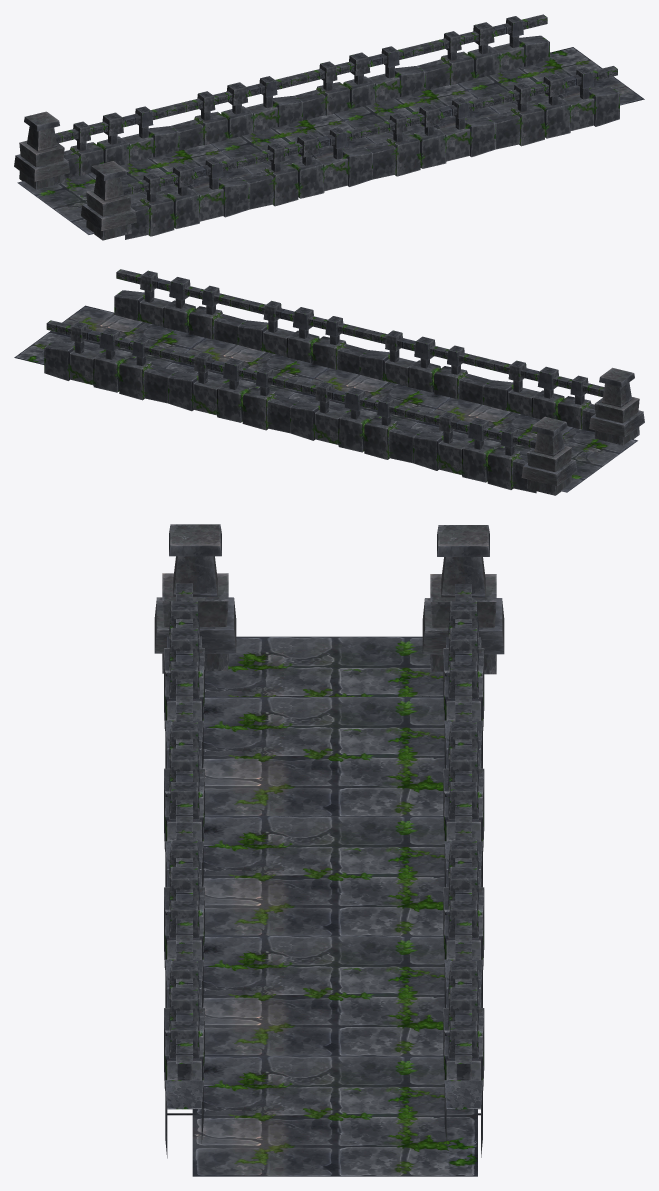
Rendered from LargerBridge.gltf.
3 views of the same model, one above another, from view 1: azimuth 30°, elevation 25°; view 2: azimuth 150°, elevation 25°; view 3: azimuth 270°, elevation 25° (orthographic). The views are drawn at different scales.
Visible parts, largest first — view 1: P_MOD_Railing_01_straight (8), P_MOD_Railing_01_straight (12), P_MOD_Railing_01_straight (10), P_MOD_Railing_01_straight (13), P_MOD_Railing_01_straight (9), P_MOD_Railing_01_straight (14), P_MOD_Railing_01_straight (11), P_MOD_Railing_01_straight (15), P_MOD_Floor_01_O_straight_med (4), P_MOD_Floor_01_O_straight_med (6), P_MOD_Floor_01_O_straight_med (5), P_MOD_Railing_01_column (1) (+3 smaller); view 2: P_MOD_Railing_01_straight (9), P_MOD_Railing_01_straight (14), P_MOD_Railing_01_straight (11), P_MOD_Railing_01_straight (15), P_MOD_Railing_01_straight (8), P_MOD_Railing_01_straight (12), P_MOD_Railing_01_straight (10), P_MOD_Railing_01_straight (13), P_MOD_Floor_01_O_straight_med (4), P_MOD_Floor_01_O_straight_med (5), P_MOD_Floor_01_O_straight_med (6), P_MOD_Railing_01_column (+3 smaller); view 3: P_MOD_Floor_01_O_straight_med (4), P_MOD_Floor_01_O_straight_med (5), P_MOD_Floor_01_O_straight_med (6), P_MOD_Floor_01_O_straight_med (7), P_MOD_Floor_01_O_straight_small, P_MOD_Railing_01_column, P_MOD_Railing_01_column (1), P_MOD_Railing_01_straight (8), P_MOD_Railing_01_straight (9), P_MOD_Railing_01_straight (11), P_MOD_Railing_01_straight (15), P_MOD_Railing_01_straight (14) (+3 smaller).
Part boxes in pixels (x1,y1,x2,y2): P_MOD_Railing_01_straight (8): (487, 66, 619, 149); P_MOD_Railing_01_straight (12): (241, 126, 372, 209); P_MOD_Railing_01_straight (10): (365, 96, 495, 179); P_MOD_Railing_01_straight (13): (122, 156, 249, 239); P_MOD_Railing_01_straight (9): (417, 14, 549, 90); P_MOD_Railing_01_straight (14): (171, 75, 302, 150); P_MOD_Railing_01_straight (11): (295, 45, 425, 120); P_MOD_Railing_01_straight (15): (55, 105, 179, 178); P_MOD_Floor_01_O_straight_med (4): (458, 47, 644, 113); P_MOD_Floor_01_O_straight_med (6): (211, 113, 375, 174); P_MOD_Floor_01_O_straight_med (5): (335, 83, 498, 143); P_MOD_Railing_01_column (1): (81, 161, 136, 240); P_MOD_Railing_01_straight (9): (44, 320, 175, 403); P_MOD_Railing_01_straight (14): (290, 380, 421, 463); P_MOD_Railing_01_straight (11): (168, 350, 297, 433); P_MOD_Railing_01_straight (15): (413, 410, 536, 493); P_MOD_Railing_01_straight (8): (114, 269, 245, 344); P_MOD_Railing_01_straight (12): (359, 329, 490, 404); P_MOD_Railing_01_straight (10): (237, 299, 367, 374); P_MOD_Railing_01_straight (13): (483, 359, 604, 431); P_MOD_Floor_01_O_straight_med (4): (14, 305, 205, 367); P_MOD_Floor_01_O_straight_med (5): (165, 338, 328, 397); P_MOD_Floor_01_O_straight_med (6): (288, 368, 450, 427); P_MOD_Railing_01_column: (521, 416, 577, 495); P_MOD_Floor_01_O_straight_med (4): (192, 1056, 477, 1176); P_MOD_Floor_01_O_straight_med (5): (203, 935, 444, 1055); P_MOD_Floor_01_O_straight_med (6): (203, 816, 444, 935); P_MOD_Floor_01_O_straight_med (7): (203, 696, 444, 816); P_MOD_Floor_01_O_straight_small: (204, 636, 443, 696); P_MOD_Railing_01_column: (422, 525, 504, 674); P_MOD_Railing_01_column (1): (154, 524, 236, 673); P_MOD_Railing_01_straight (8): (164, 943, 204, 1158); P_MOD_Railing_01_straight (9): (443, 943, 484, 1157); P_MOD_Railing_01_straight (11): (443, 823, 484, 1007); P_MOD_Railing_01_straight (15): (443, 584, 484, 768); P_MOD_Railing_01_straight (14): (443, 704, 484, 887).
Bounding box in the file's own units: 17.9 × 2.19 × 4.9.
Materials: 2 (2 with a texture image).
